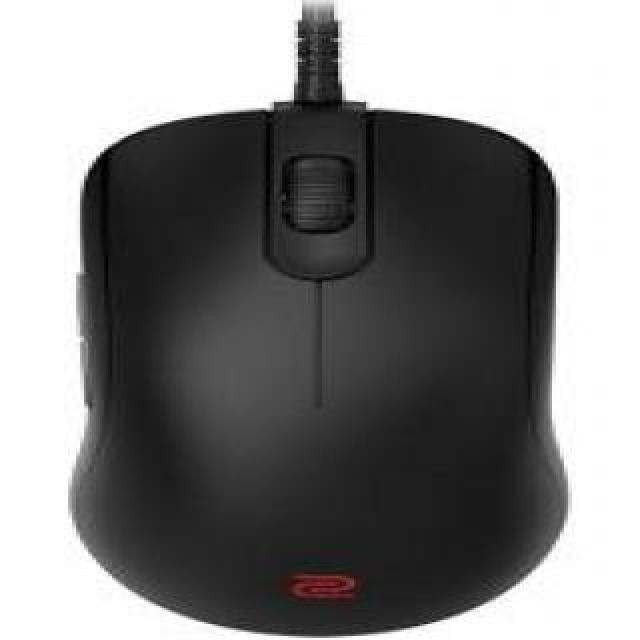mouse: (53, 0, 640, 640)
